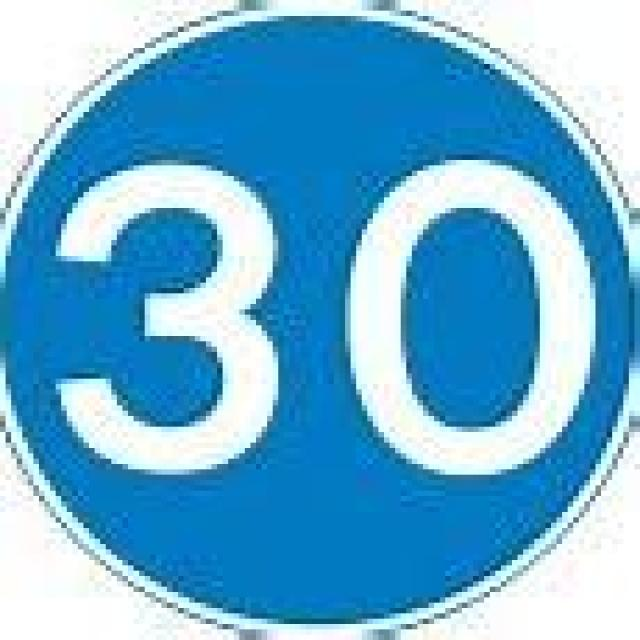compulsory_keep_right: (0, 0, 634, 634)
